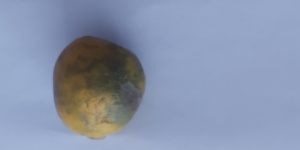BAD: (53, 34, 145, 140)
